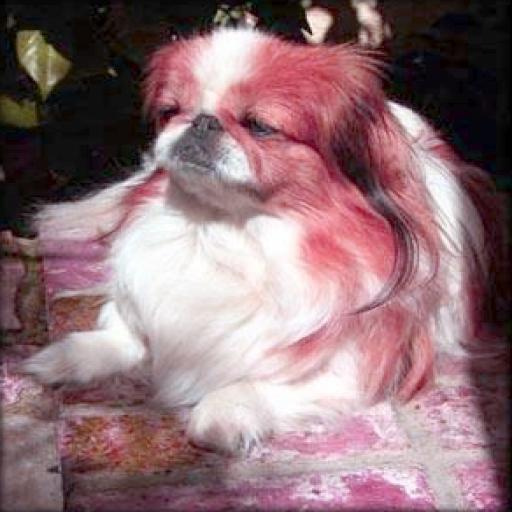dog_face: (46, 39, 464, 292)
